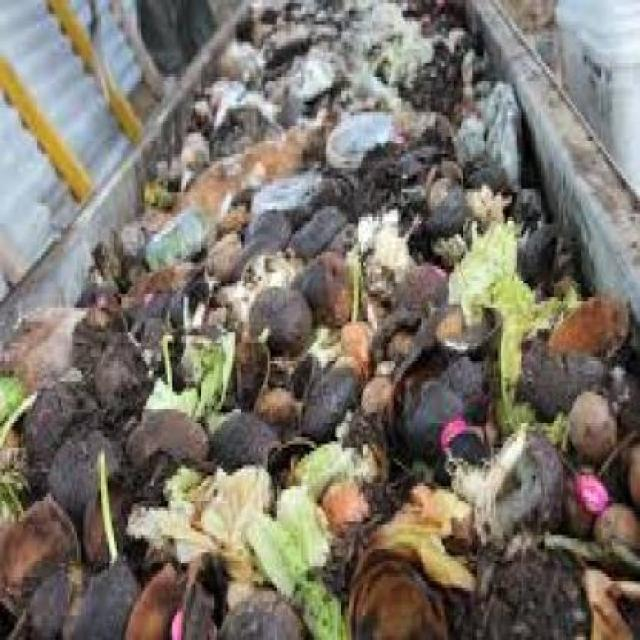garbage: (5, 3, 638, 636)
